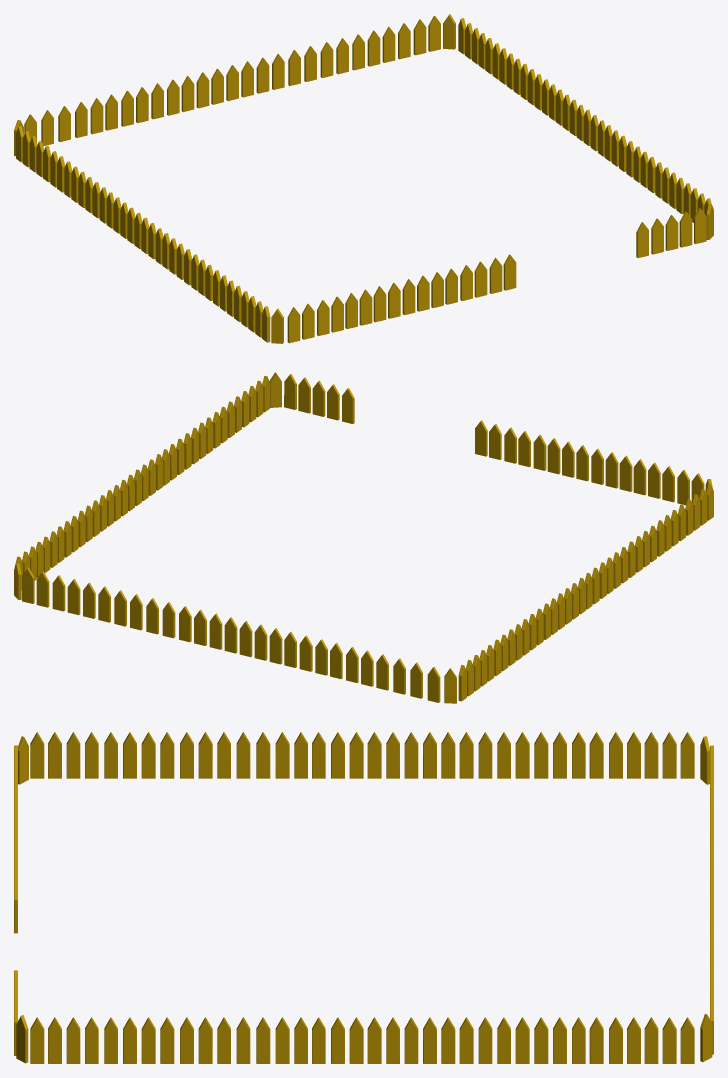
File: Full Fence.fbx
The picture shows the model from 3 angles, top to bottom: view 1: azimuth 30°, elevation 25°; view 2: azimuth 150°, elevation 25°; view 3: azimuth 270°, elevation 25°; orthographic projection. The views are drawn at different scales.
Visible parts, largest first — view 1: no part large enough to name; view 2: no part large enough to name; view 3: pCube91, pCube102, pCube105, pCube107, pCube112, pCube116, pCube103, pCube123, pCube125, pCube25, pCube92, pCube98 (+62 smaller).
Part boxes in pixels (left/top/right/bottom): pCube91: left=662, top=732, right=676, bottom=778; pCube102: left=459, top=732, right=473, bottom=778; pCube105: left=404, top=732, right=418, bottom=778; pCube107: left=367, top=732, right=381, bottom=778; pCube112: left=275, top=732, right=289, bottom=778; pCube116: left=198, top=732, right=212, bottom=778; pCube103: left=441, top=732, right=455, bottom=778; pCube123: left=66, top=732, right=80, bottom=778; pCube125: left=30, top=732, right=44, bottom=778; pCube25: left=30, top=1017, right=44, bottom=1063; pCube92: left=644, top=732, right=658, bottom=778; pCube98: left=534, top=732, right=548, bottom=778.
Bounding box in the file's own units: 10.17 × 0.7427 × 10.47.
